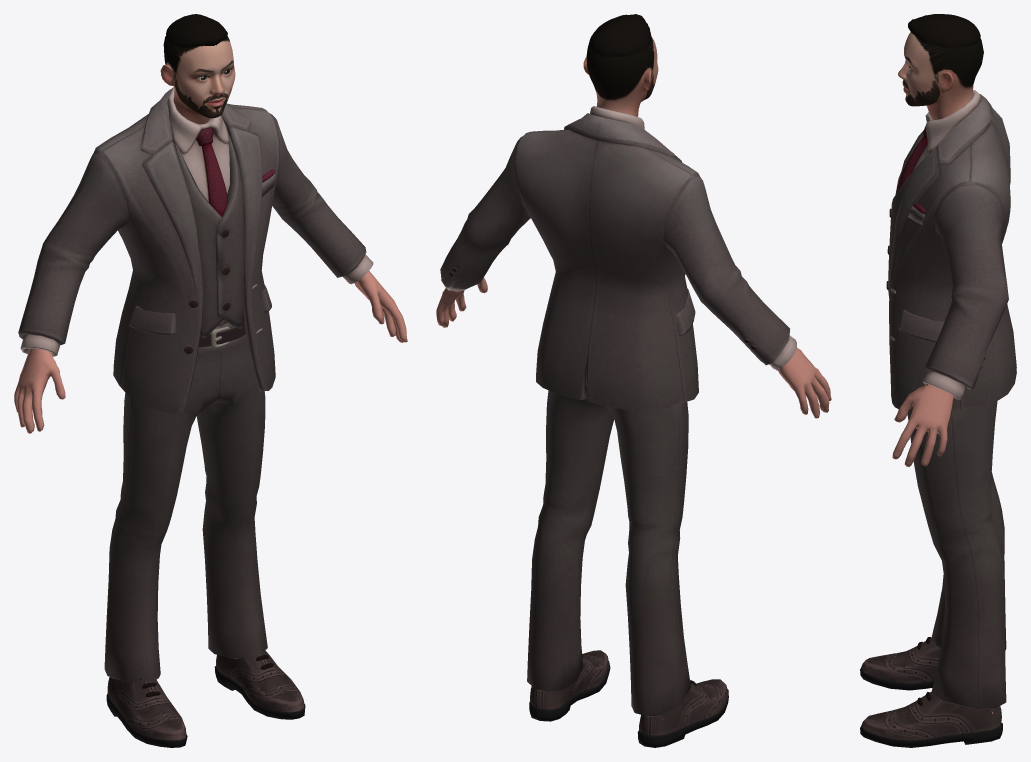
The model's file is Male.fbx.
3 views of the same model, side by side, from view 1: azimuth 30°, elevation 25°; view 2: azimuth 150°, elevation 25°; view 3: azimuth 270°, elevation 25° (orthographic).
Visible parts, largest first — view 1: Wolf3D_Outfit_Top, Wolf3D_Outfit_Bottom, Wolf3D_Outfit_Footwear, Wolf3D_Head, Wolf3D_Body, Wolf3D_Hair; view 2: Wolf3D_Outfit_Top, Wolf3D_Outfit_Bottom, Wolf3D_Outfit_Footwear, Wolf3D_Head, Wolf3D_Body, Wolf3D_Hair; view 3: Wolf3D_Outfit_Top, Wolf3D_Outfit_Bottom, Wolf3D_Outfit_Footwear, Wolf3D_Head, Wolf3D_Body, Wolf3D_Hair.
Part boxes in pixels (x1,y1,x2,y2): Wolf3D_Outfit_Top: (18, 87, 373, 413); Wolf3D_Outfit_Bottom: (104, 322, 267, 683); Wolf3D_Outfit_Footwear: (106, 649, 305, 747); Wolf3D_Head: (160, 35, 235, 124); Wolf3D_Body: (14, 271, 407, 433); Wolf3D_Hair: (166, 14, 227, 47); Wolf3D_Outfit_Top: (440, 106, 796, 410); Wolf3D_Outfit_Bottom: (527, 390, 690, 717); Wolf3D_Outfit_Footwear: (529, 650, 728, 747); Wolf3D_Head: (583, 36, 658, 116); Wolf3D_Body: (436, 278, 831, 719); Wolf3D_Hair: (589, 14, 651, 56); Wolf3D_Outfit_Top: (886, 90, 1016, 412); Wolf3D_Outfit_Bottom: (907, 400, 1006, 709); Wolf3D_Outfit_Footwear: (860, 637, 1002, 747); Wolf3D_Head: (898, 32, 983, 119); Wolf3D_Body: (892, 384, 993, 713); Wolf3D_Hair: (908, 14, 980, 48).
Size of the model in its own units: 106 by 184 by 37.73.
8 materials, 8 textured.
